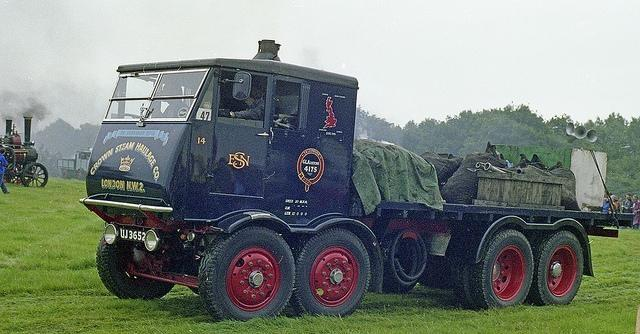truck: (81, 41, 634, 322)
